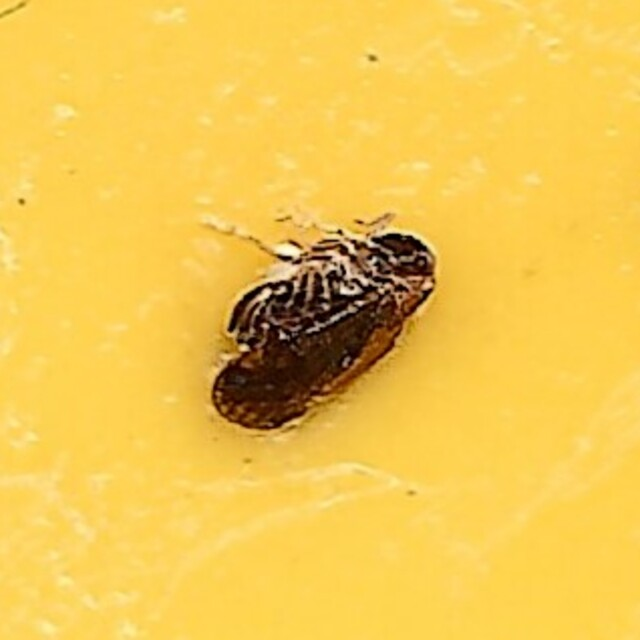Hemiptera: (201, 203, 439, 437)
